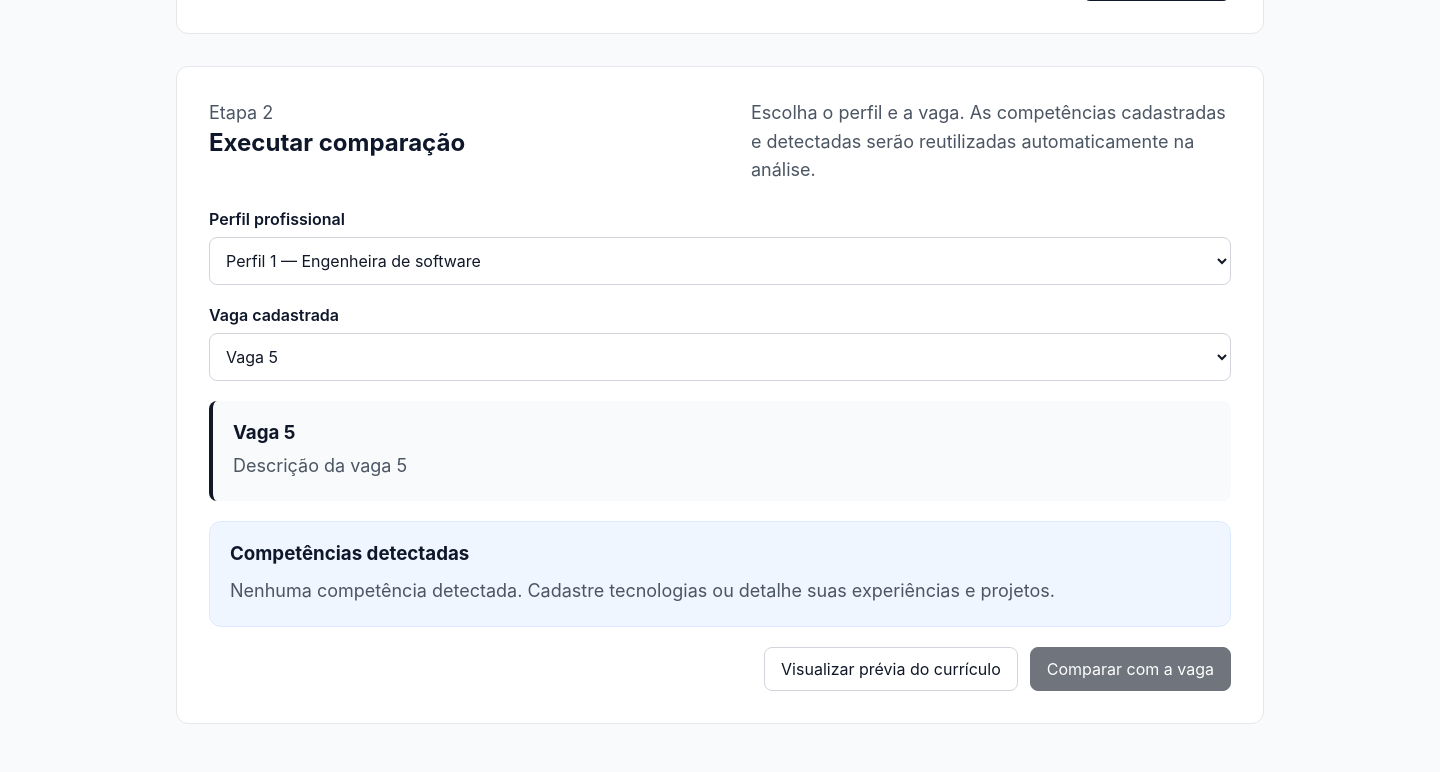
CompareJobPage asynchronous preview robustness › R-002 ignores a stale successful response after the job changes
This screenshot has width=1440, height=772.
(page scrolled)
Step 1. Click the button "Visualizar prévia do currículo" → (891, 669), box [764, 647, 1018, 691]
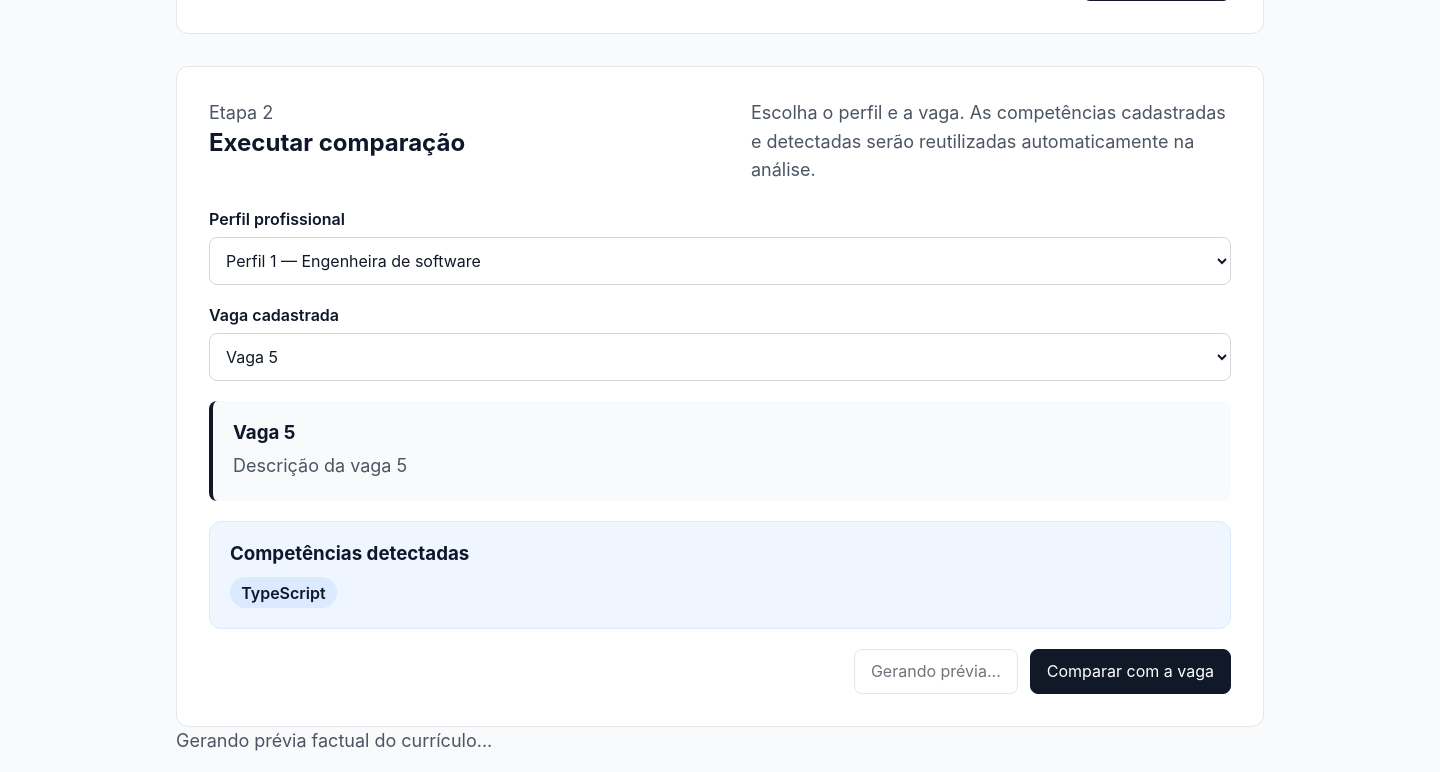
Result: the text "Gerando prévia factual do currículo..." is shown at [176, 730, 492, 750]
Step 2. Select "Vaga 1" in the dropdown labelled "Vaga cadastrada" → (720, 357), box [209, 333, 1231, 381]
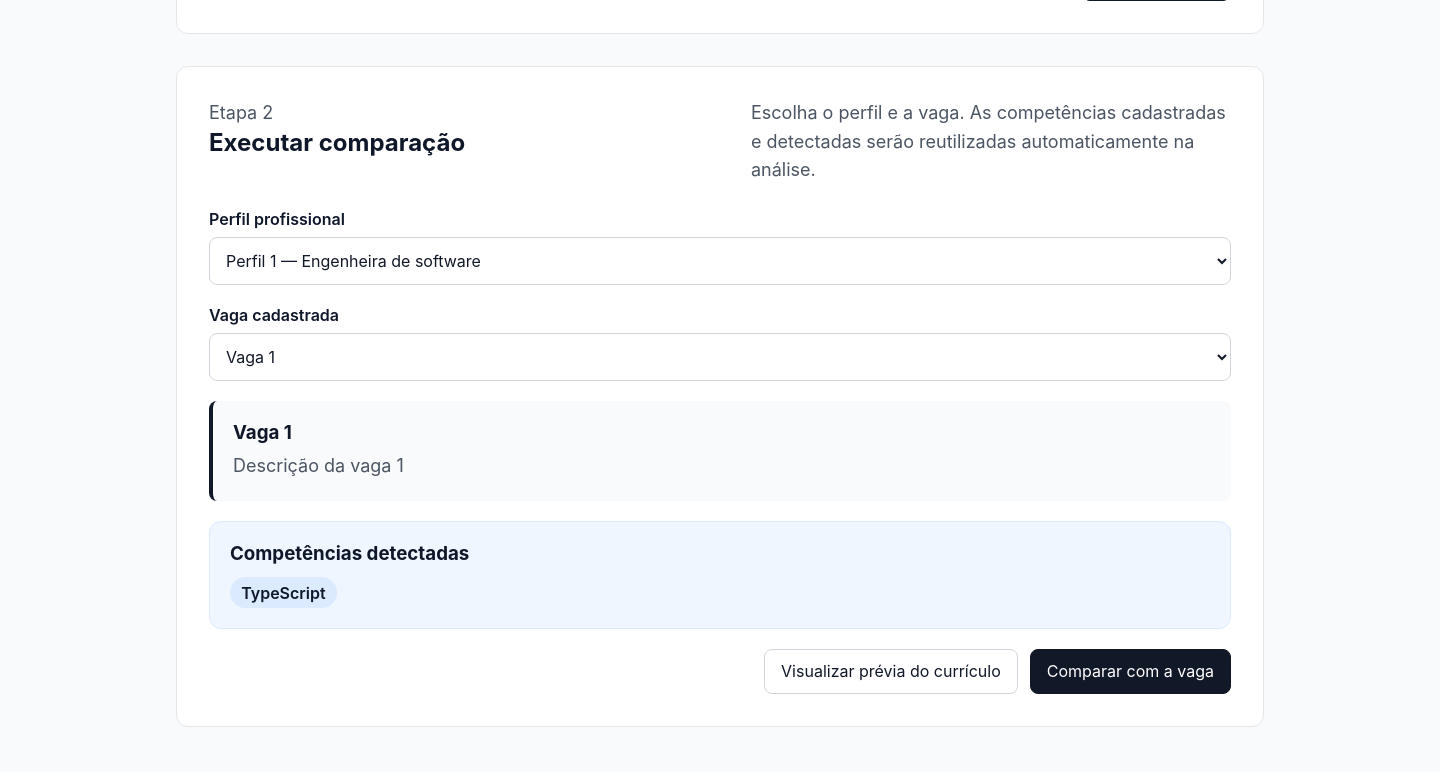
Result: the message "Gerando prévia factual do currículo..." is gone
Result: the text "Gerando prévia factual do currículo..." is gone
